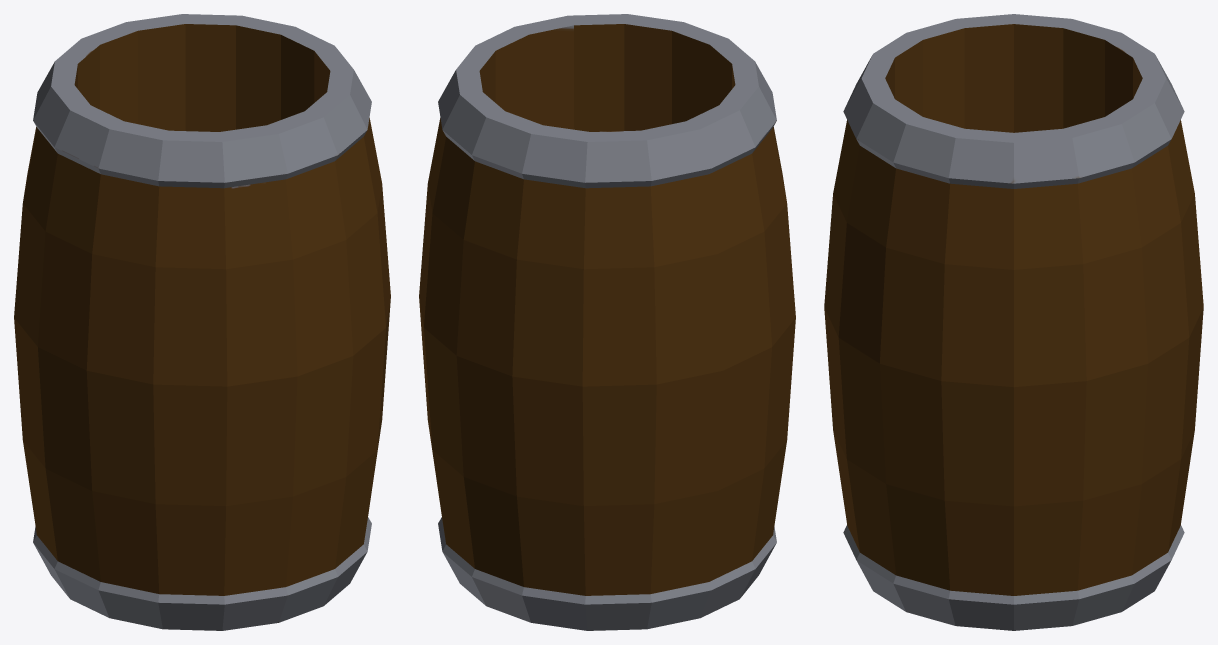
File: Barril.fbx
3 views of the same model, side by side, from view 1: azimuth 30°, elevation 25°; view 2: azimuth 150°, elevation 25°; view 3: azimuth 270°, elevation 25° (orthographic).
Visible parts, largest first — view 1: Cilindro.002; view 2: Cilindro.002; view 3: Cilindro.002.
Part boxes in pixels (<box>): Cilindro.002: <box>14,14,390,630</box>; Cilindro.002: <box>419,14,795,630</box>; Cilindro.002: <box>824,14,1203,630</box>.
Size of the model in its own units: 74 by 105 by 74.
1 material, 1 textured.
